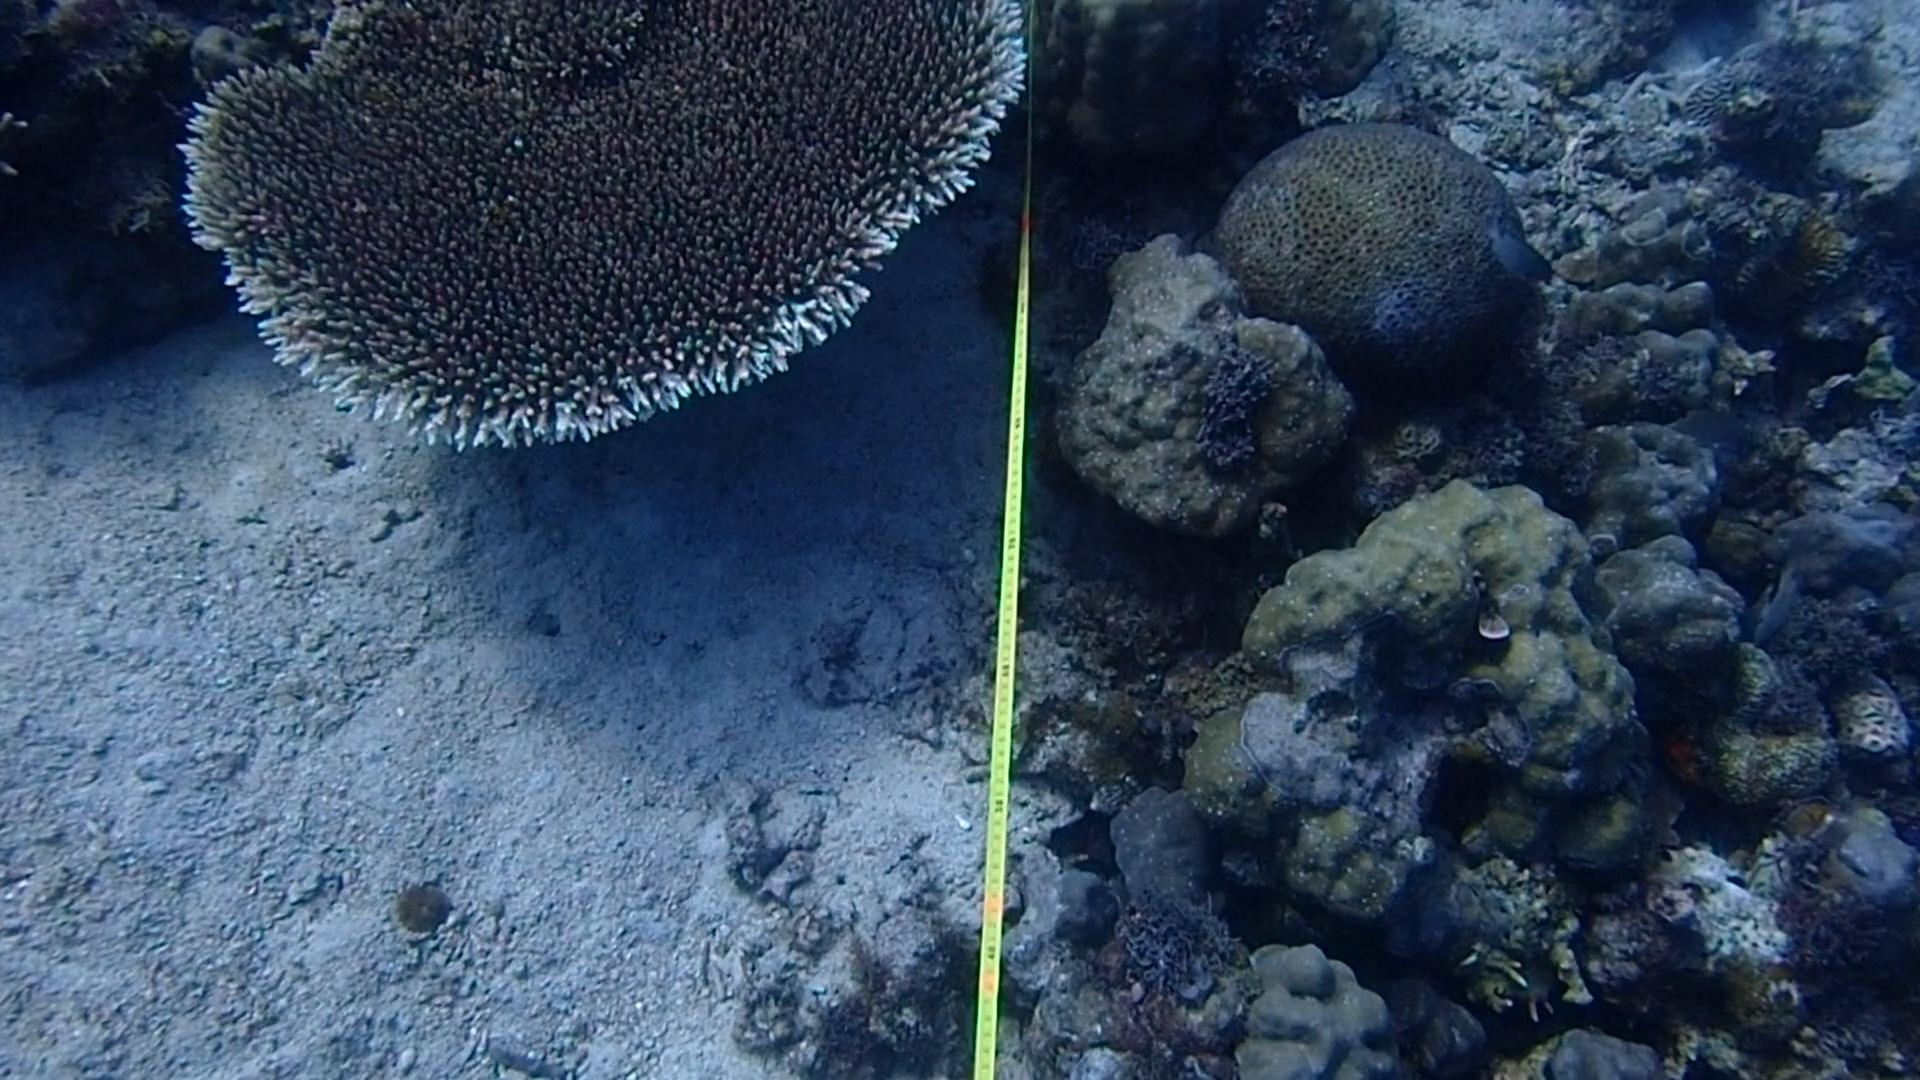Light Fish: (1480, 200, 1560, 293), (1759, 550, 1811, 662)
